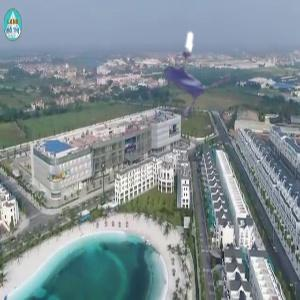drone: (131, 12, 252, 133)
